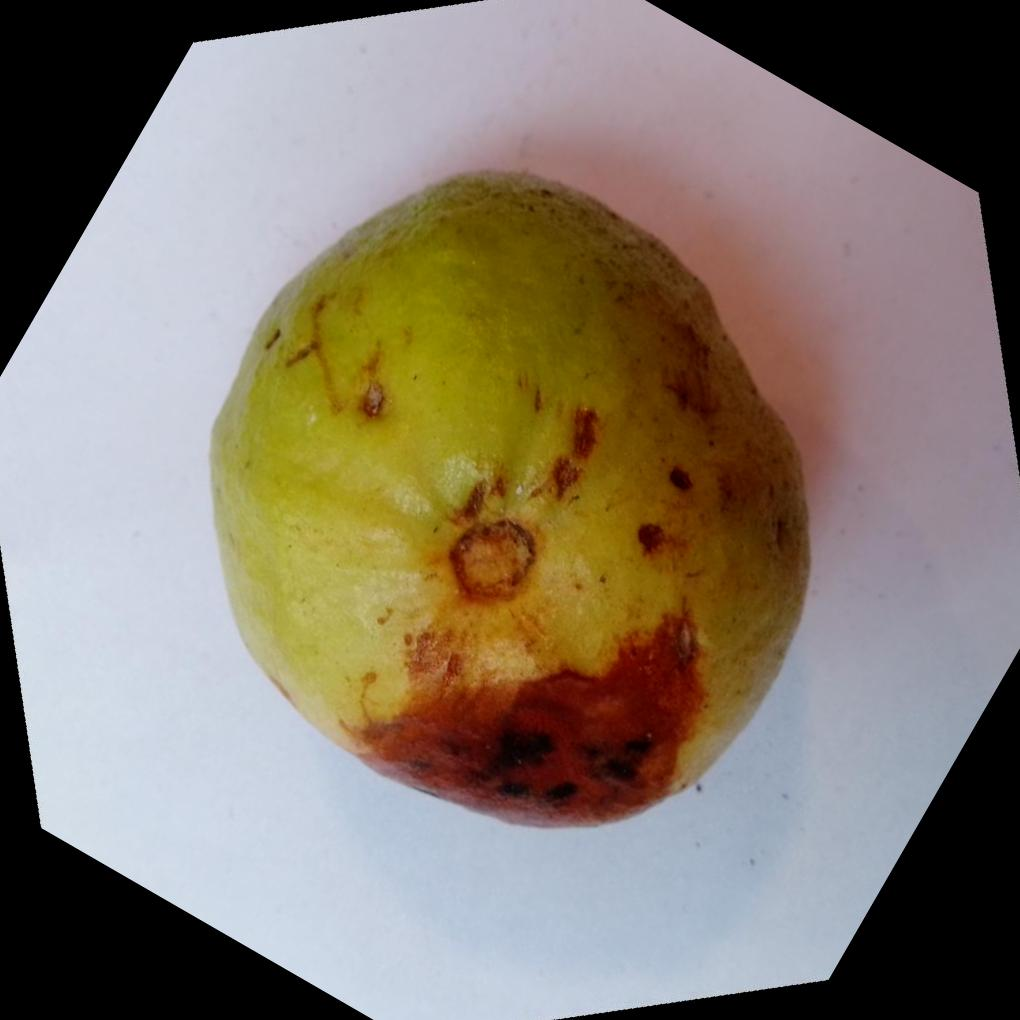FreshOrange: (208, 167, 815, 829)
